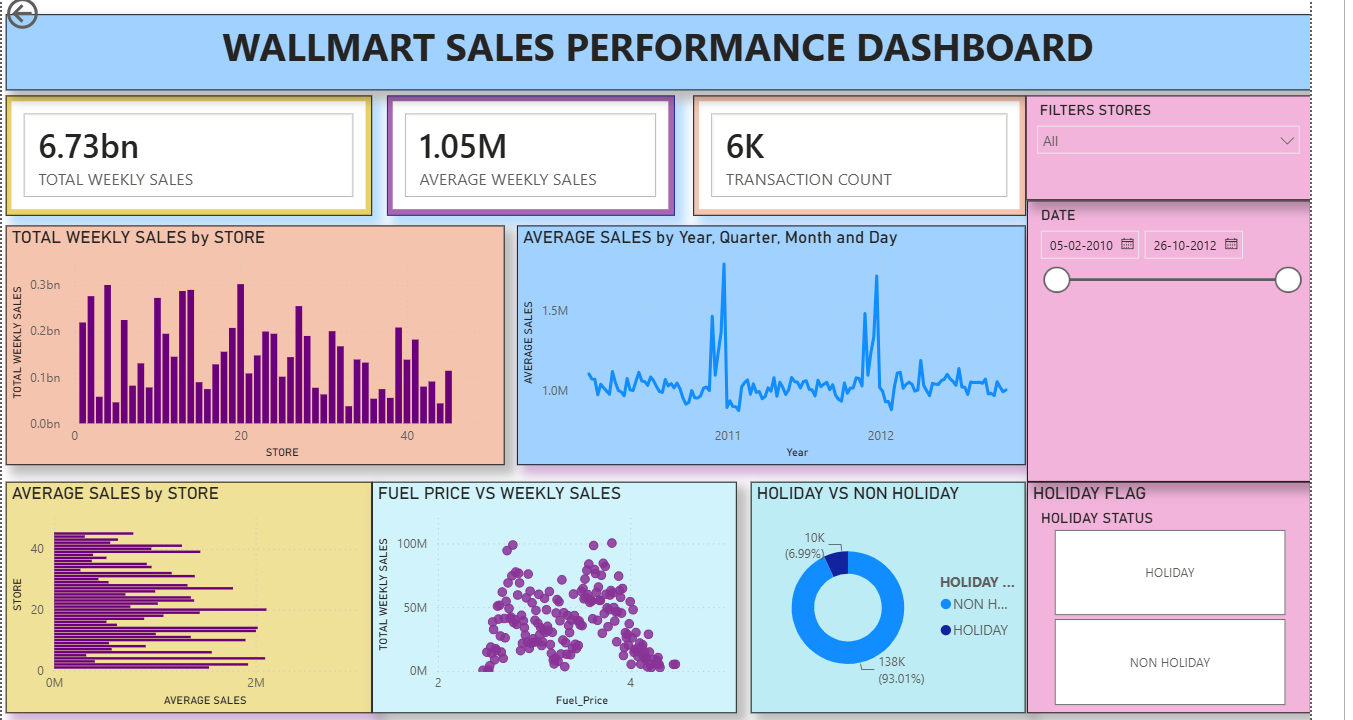

The page's visual inventory and layout, read from the dashboard file:
{"tool":"powerbi","page":{"name":"FINANCIAL DASHBOARD","canvas":[1280,720],"ordinal":3},"visuals":[{"type":"cardVisual","fields":{"Data":["Walmart Data Analysis and Forca.Total Sales"]},"box":[3.7,100.3,358.3,117.4],"z":0},{"type":"cardVisual","fields":{"Data":["Walmart Data Analysis and Forca.Average sales"]},"box":[376.6,100.3,281.3,117.4],"z":1000},{"type":"cardVisual","fields":{"Data":["Walmart Data Analysis and Forca.Transaction count"]},"box":[676.2,100.3,325.3,117.4],"z":2000},{"type":"textbox","box":[4.1,20.6,1276.6,74.6],"z":3000},{"type":"clusteredColumnChart","fields":{"Category":["Walmart Data Analysis and Forca.Store"],"Y":["Walmart Data Analysis and Forca.TOTAL WEEKLY SALES"]},"box":[3.7,227.4,487.9,234.8],"z":4000},{"type":"clusteredBarChart","fields":{"Y":["Walmart Data Analysis and Forca.Average sales"],"Category":["Walmart Data Analysis and Forca.Store"]},"box":[3.7,478.1,358.3,226.2],"z":5000},{"type":"lineChart","fields":{"Y":["Walmart Data Analysis and Forca.AVERAGE SALES"],"Category":["Walmart Data Analysis and Forca.Date.Variation.Date Hierarchy.Year","Walmart Data Analysis and Forca.Date.Variation.Date Hierarchy.Quarter","Walmart Data Analysis and Forca.Date.Variation.Date Hierarchy.Month","Walmart Data Analysis and Forca.Date.Variation.Date Hierarchy.Day"]},"box":[503.8,227.4,497.7,234.8],"z":6000},{"type":"scatterChart","title":"FUEL PRICE VS WEEKLY SALES","fields":{"X":["Walmart Data Analysis and Forca. Fuel_Price "],"Y":["Walmart Data Analysis and Forca.TOTAL WEEKLY SALES"]},"box":[362,478.1,357.1,226.2],"z":7000},{"type":"donutChart","title":"HOLIDAY VS NON HOLIDAY","fields":{"Y":["Sum(Walmart Data Analysis and Forca.STORE)"],"Category":["Walmart Data Analysis and Forca.HOLIDAY STATUS"]},"box":[732.5,478.1,269,226.2],"z":8000},{"type":"actionButton","box":[0,0,100,40],"z":9000},{"type":"slicer","title":"HOLIDAY FLAG","fields":{"Values":["Walmart Data Analysis and Forca.HOLIDAY STATUS"]},"box":[1002.7,478.1,277.6,226.2],"z":10000},{"type":"slicer","fields":{"Values":["Walmart Data Analysis and Forca.Date"]},"box":[1002.7,203,277.6,275.1],"z":11000},{"type":"slicer","fields":{"Values":["Walmart Data Analysis and Forca.STORE"]},"box":[1001.5,100.3,278.8,102.7],"z":12000}]}

Visuals, with their boxes in screenshot pixels (x1, y1, x2, y2):
cardVisual - Walmart Data Analysis and Forca.Total Sales: crop(4, 92, 369, 212)
cardVisual - Walmart Data Analysis and Forca.Average sales: crop(384, 92, 672, 212)
cardVisual - Walmart Data Analysis and Forca.Transaction count: crop(690, 92, 1022, 212)
textbox: crop(4, 10, 1307, 87)
clusteredColumnChart - Walmart Data Analysis and Forca.Store x Walmart Data Analysis and Forca.TOTAL WEEKLY SALES: crop(4, 222, 502, 461)
clusteredBarChart - Walmart Data Analysis and Forca.Average sales x Walmart Data Analysis and Forca.Store: crop(4, 477, 369, 708)
lineChart - Walmart Data Analysis and Forca.AVERAGE SALES x Walmart Data Analysis and Forca.Date.Variation.Date Hierarchy.Year: crop(514, 222, 1022, 461)
"FUEL PRICE VS WEEKLY SALES" scatterChart: crop(369, 477, 734, 708)
"HOLIDAY VS NON HOLIDAY" donutChart: crop(748, 477, 1022, 708)
actionButton: crop(0, 0, 102, 30)
"HOLIDAY FLAG" slicer: crop(1023, 477, 1307, 708)
slicer - Walmart Data Analysis and Forca.Date: crop(1023, 197, 1307, 477)
slicer - Walmart Data Analysis and Forca.STORE: crop(1022, 92, 1307, 197)
